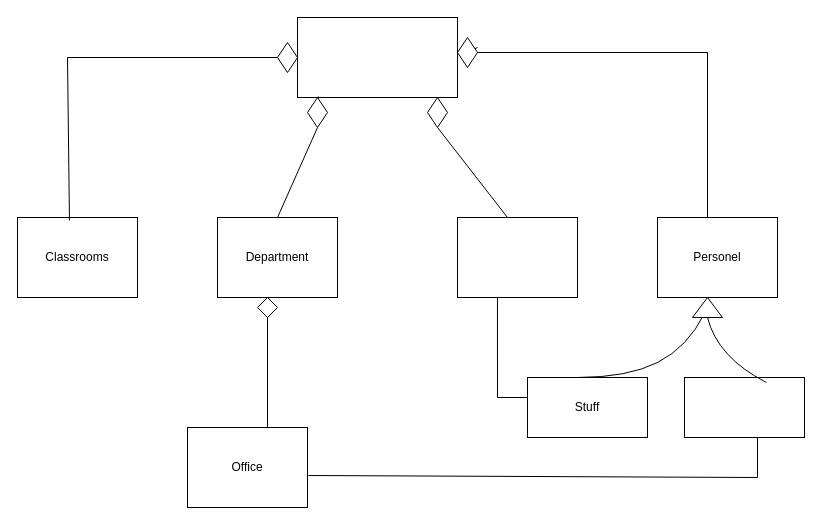
This 822x525 diagram has some shape labels left out. Here are the shapes that lost their labels. From the top down, the centre of each, then its label:
At (x=377, y=57): "University".
At (x=517, y=257): "Studying Office".
At (x=744, y=407): "Professor".
